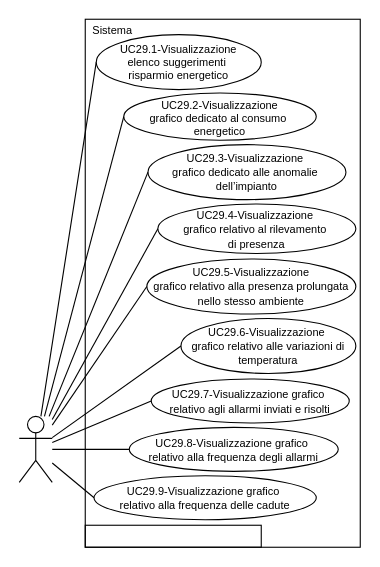
This 380x567 diagram has some shape labels left out. The shapes that lost their labels are listed below. From the top down, each one's centre as x and y in pixels, then its label:
At point 35,448: "Utente".
At point 172,535: "UC29-Visualizzazione analytics".
